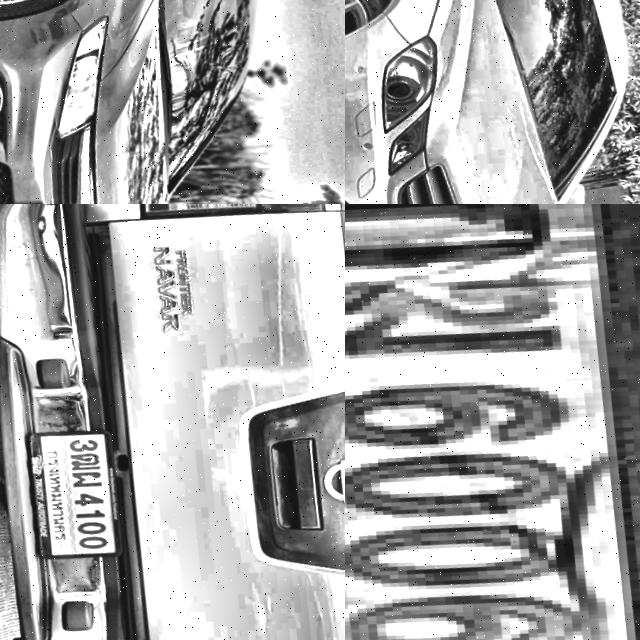license-plate: (345, 204, 640, 640), (22, 418, 132, 565)
